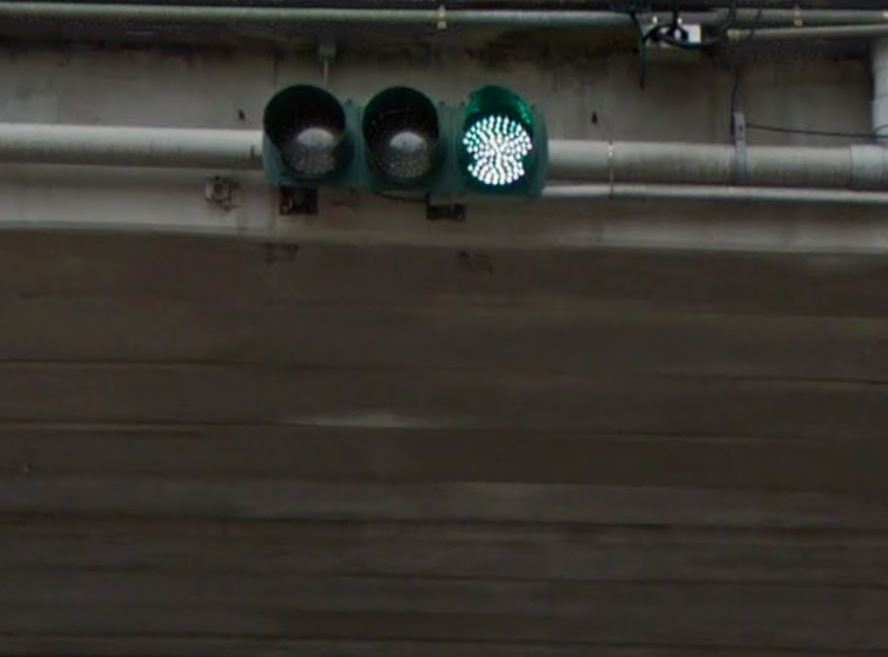Traffic_light_green: (256, 72, 551, 202)
